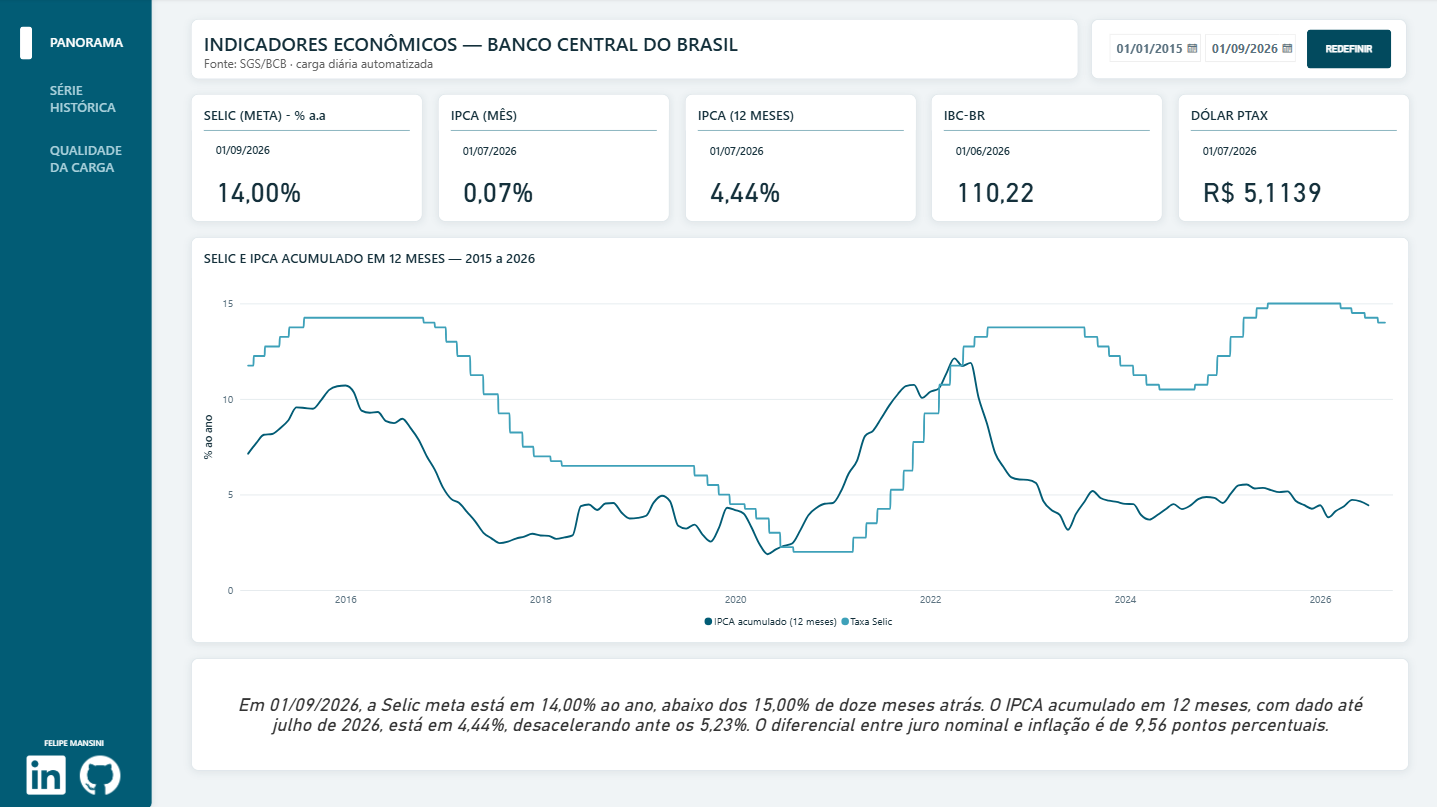

The dashboard page shown, as its layout file describes it:
{"tool":"powerbi","page":{"name":"Panorama","canvas":[1920,1080],"ordinal":0},"visuals":[{"type":"cardVisual","title":"SELIC (META) - % a.a","fields":{"Data":["_Medidas.Último Valor"]},"box":[260,128,308,170],"z":0},{"type":"cardVisual","title":"IPCA (MÊS)","fields":{"Data":["_Medidas.Último Valor"]},"box":[588,128,308,170],"z":1000},{"type":"cardVisual","title":"IPCA (12 MESES)","fields":{"Data":["_Medidas.Último Valor"]},"box":[916,128,308,170],"z":2000},{"type":"cardVisual","title":"IBC-BR","fields":{"Data":["_Medidas.Último Valor"]},"box":[1244,128,308,170],"z":3000},{"type":"cardVisual","title":"DÓLAR PTAX","fields":{"Data":["_Medidas.Último Valor"]},"box":[1572,128,308,170],"z":4000},{"type":"lineChart","title":"SELIC E IPCA ACUMULADO EM 12 MESES — 2015 a 2026","fields":{"Category":["analytics dim_calendar.date_key"],"Series":["analytics dim_series.short_name"],"Y":["_Medidas.Último Valor"]},"box":[260,318,1620,540],"z":5000},{"type":"shape","title":"INDICADORES ECONÔMICOS — BANCO CENTRAL DO BRASIL","box":[260,28,1180,80],"z":6000},{"type":"cardVisual","fields":{"Data":["_Medidas.Leitura do Panorama"]},"box":[260,878,1620,150],"z":7000},{"type":"slicer","title":"Período","fields":{"Values":["analytics dim_calendar.date_key"]},"box":[1456,28,420,80],"z":8000},{"type":"actionButton","box":[1728,28,144,80],"z":9000},{"type":"shape","box":[0,-8,208,1088],"z":10000},{"type":"actionButton","title":"PANORAMA","box":[56,32,152,56],"z":11000},{"type":"actionButton","title":"SÉRIE HISTÓRICA","box":[56,96,152,64],"z":12000},{"type":"actionButton","title":"QUALIDADE DA CARGA","box":[56,176,152,64],"z":13000},{"type":"shape","box":[16,24,48,72],"z":14000},{"type":"image","box":[82.7,994,112,80],"z":15000},{"type":"image","box":[10.7,994,112,80],"z":16000},{"type":"textbox","title":"FELIPE MANSINI","box":[40,968,128,40],"z":17000}]}

Visuals, with their boxes in screenshot pixels (x1, y1, x2, y2), scaled from the page's 1920x1080 canvas onto the 1437x807 screenshot:
"SELIC (META) - % a.a" cardVisual: 195/96/425/223
"IPCA (MÊS)" cardVisual: 440/96/671/223
"IPCA (12 MESES)" cardVisual: 686/96/916/223
"IBC-BR" cardVisual: 931/96/1162/223
"DÓLAR PTAX" cardVisual: 1177/96/1407/223
"SELIC E IPCA ACUMULADO EM 12 MESES — 2015 a 2026" lineChart: 195/238/1407/641
"INDICADORES ECONÔMICOS — BANCO CENTRAL DO BRASIL" shape: 195/21/1078/81
cardVisual - _Medidas.Leitura do Panorama: 195/656/1407/768
"Período" slicer: 1090/21/1404/81
actionButton: 1293/21/1401/81
shape: 0/0/156/806
"PANORAMA" actionButton: 42/24/156/66
"SÉRIE HISTÓRICA" actionButton: 42/72/156/120
"QUALIDADE DA CARGA" actionButton: 42/132/156/179
shape: 12/18/48/72
image: 62/743/146/803
image: 8/743/92/803
"FELIPE MANSINI" textbox: 30/723/126/753
